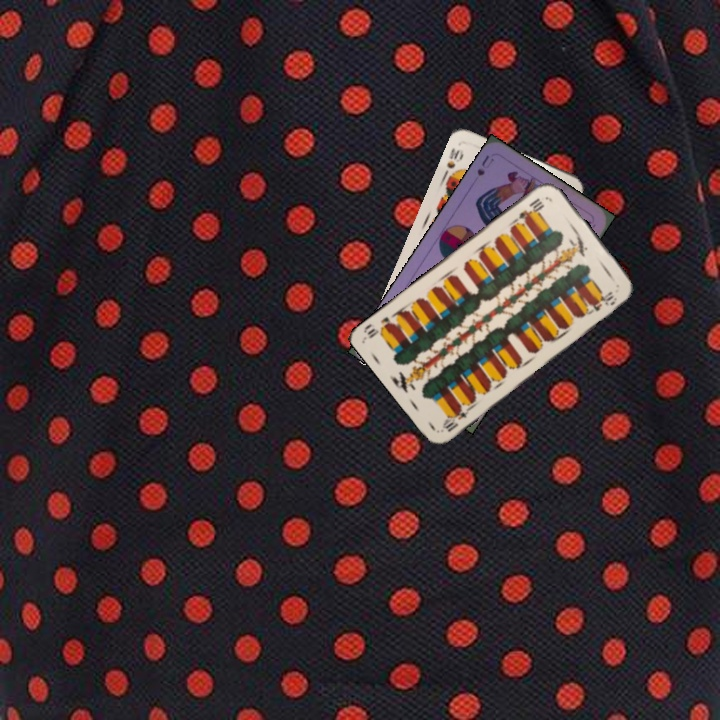E10: (438, 403, 473, 435), (515, 194, 546, 223)
S10: (440, 144, 466, 179)
SU: (473, 151, 496, 179)
